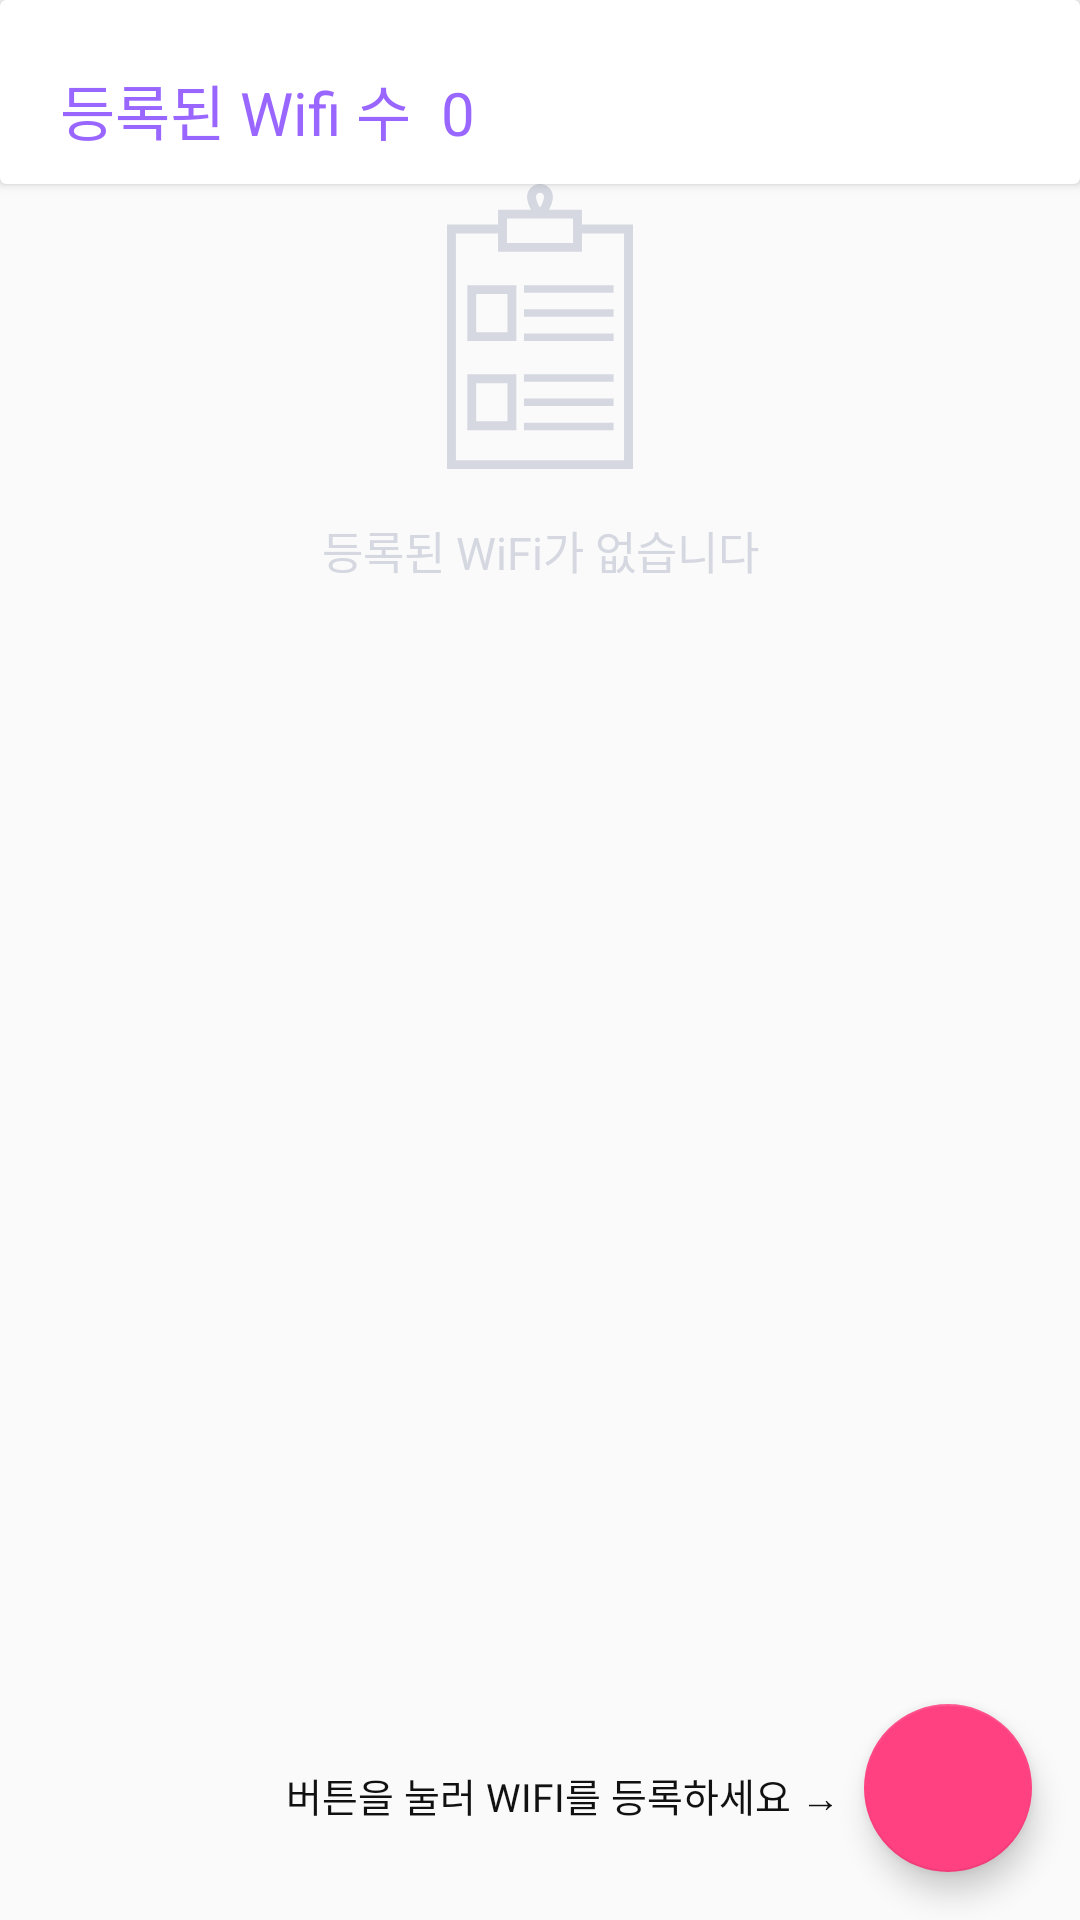

Icons on this 1080px×1920px Android screen, each with its box as (x1, y1, x2, y2):
no list: (447, 184, 633, 469)
